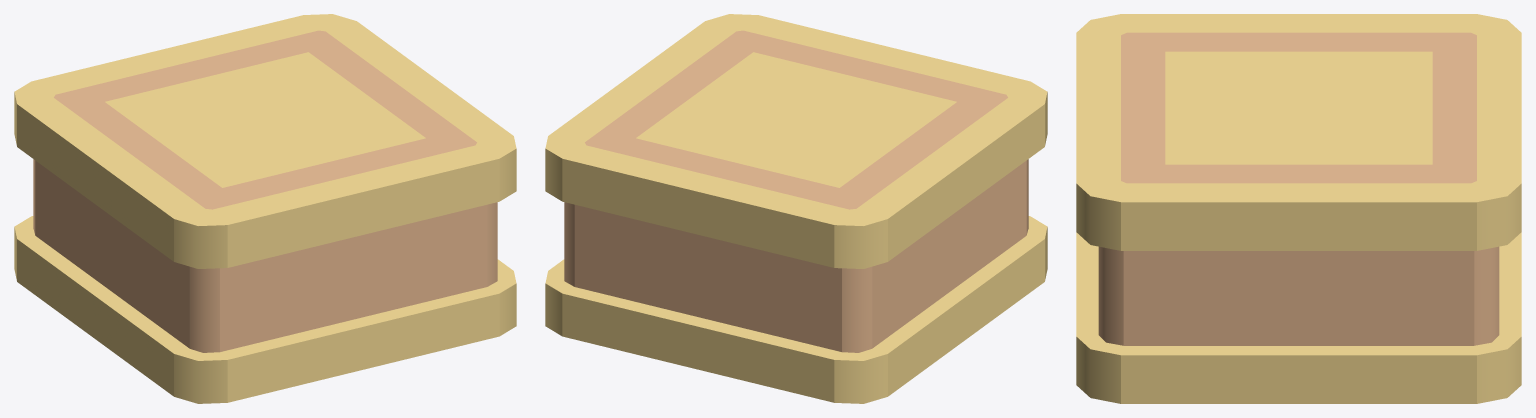
3 views of the same model, side by side, from view 1: azimuth 30°, elevation 25°; view 2: azimuth 150°, elevation 25°; view 3: azimuth 270°, elevation 25° (orthographic). The views are drawn at different scales.
Parts seen in each view (by area): view 1: blockMovingLarge; view 2: blockMovingLarge; view 3: blockMovingLarge.
Boxes of the visible parts, left/top/right/bottom form: blockMovingLarge: left=14, top=14, right=516, bottom=403; blockMovingLarge: left=545, top=14, right=1047, bottom=403; blockMovingLarge: left=1076, top=14, right=1521, bottom=403.
Size of the model in its own units: 1 by 0.5 by 1.
